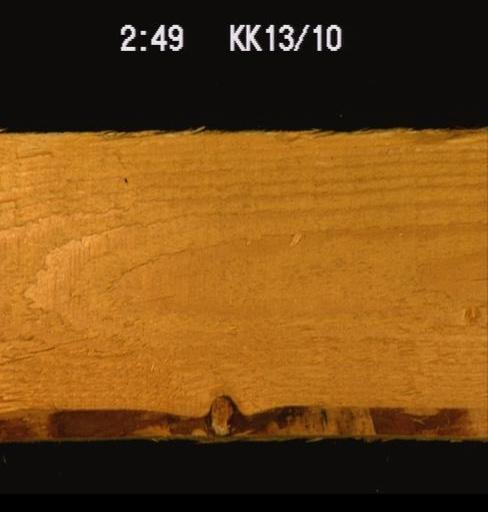split: (0, 326, 107, 365)
wave: (0, 392, 486, 438), (376, 127, 485, 146)
